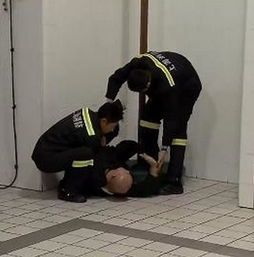fall: (78, 135, 173, 199)
